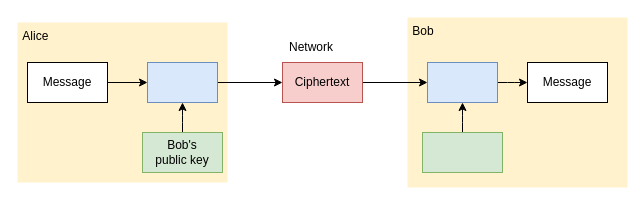
This 644x204 diagram has some shape labels left out. Here are the shapes that lost their labels. From the top down, the box of each, then its label:
(146, 62, 218, 102): encrypt
(426, 62, 498, 102): decrypt
(422, 132, 502, 172): Bob's private key
